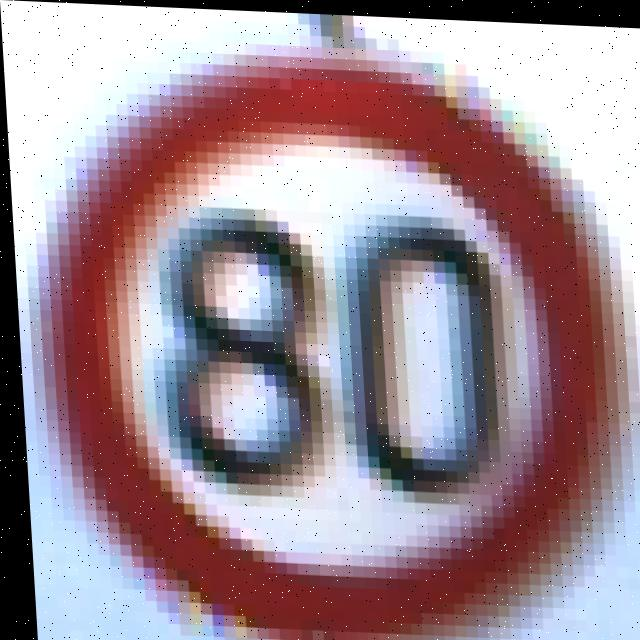speed_limit_80: (26, 69, 632, 640)
